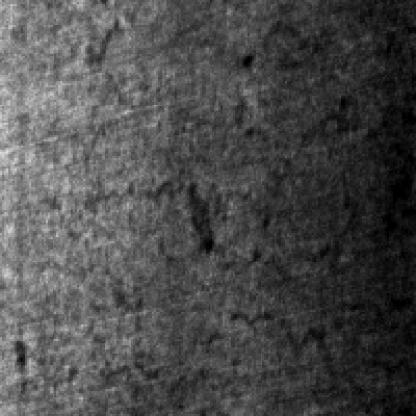crazing: (60, 88, 414, 270), (227, 276, 414, 412)
